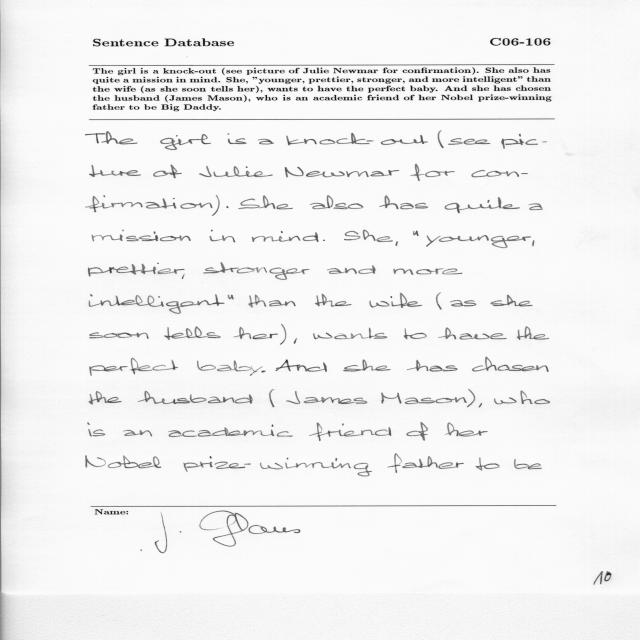word: (183, 456, 372, 476), (86, 195, 220, 216), (89, 294, 225, 314), (286, 133, 428, 145), (381, 390, 475, 408), (168, 424, 293, 437), (90, 358, 178, 376), (88, 263, 185, 279), (138, 391, 253, 404), (309, 423, 391, 441), (388, 454, 464, 473), (426, 235, 531, 248), (285, 167, 399, 178), (445, 197, 520, 213), (92, 230, 191, 242), (472, 357, 549, 372), (197, 360, 263, 376), (286, 391, 367, 404), (86, 456, 161, 469), (237, 267, 310, 280), (313, 328, 387, 340), (438, 328, 507, 340), (160, 134, 211, 150), (199, 166, 273, 177), (164, 327, 221, 341), (370, 293, 422, 308), (410, 164, 455, 181), (310, 195, 363, 209), (252, 231, 319, 242), (501, 134, 547, 149), (380, 196, 429, 210), (86, 131, 138, 144), (276, 359, 327, 372), (90, 165, 141, 177), (249, 295, 296, 308), (445, 423, 488, 437), (344, 230, 393, 242), (343, 360, 391, 372), (407, 360, 458, 371), (233, 327, 278, 339), (394, 268, 463, 275), (259, 196, 293, 210), (316, 294, 352, 307), (491, 295, 533, 306), (89, 391, 122, 405), (517, 326, 549, 340), (406, 422, 428, 441), (90, 332, 149, 339), (153, 165, 182, 179), (472, 170, 529, 177), (203, 263, 239, 274), (520, 391, 550, 404), (476, 458, 500, 471), (210, 230, 235, 242), (448, 138, 490, 145), (514, 459, 542, 469), (88, 422, 105, 437), (404, 328, 427, 339), (238, 199, 260, 209), (228, 134, 247, 145), (450, 300, 477, 307), (327, 268, 357, 274), (123, 430, 152, 436), (358, 265, 376, 274), (494, 398, 517, 405), (280, 324, 286, 345), (528, 204, 543, 211), (438, 131, 444, 148), (436, 293, 442, 310), (258, 139, 274, 145), (269, 390, 274, 408), (413, 231, 419, 237), (228, 295, 234, 300), (294, 338, 297, 344), (395, 241, 398, 246), (532, 240, 534, 246), (479, 403, 482, 407), (261, 371, 266, 373), (227, 206, 229, 208), (323, 239, 325, 241)
